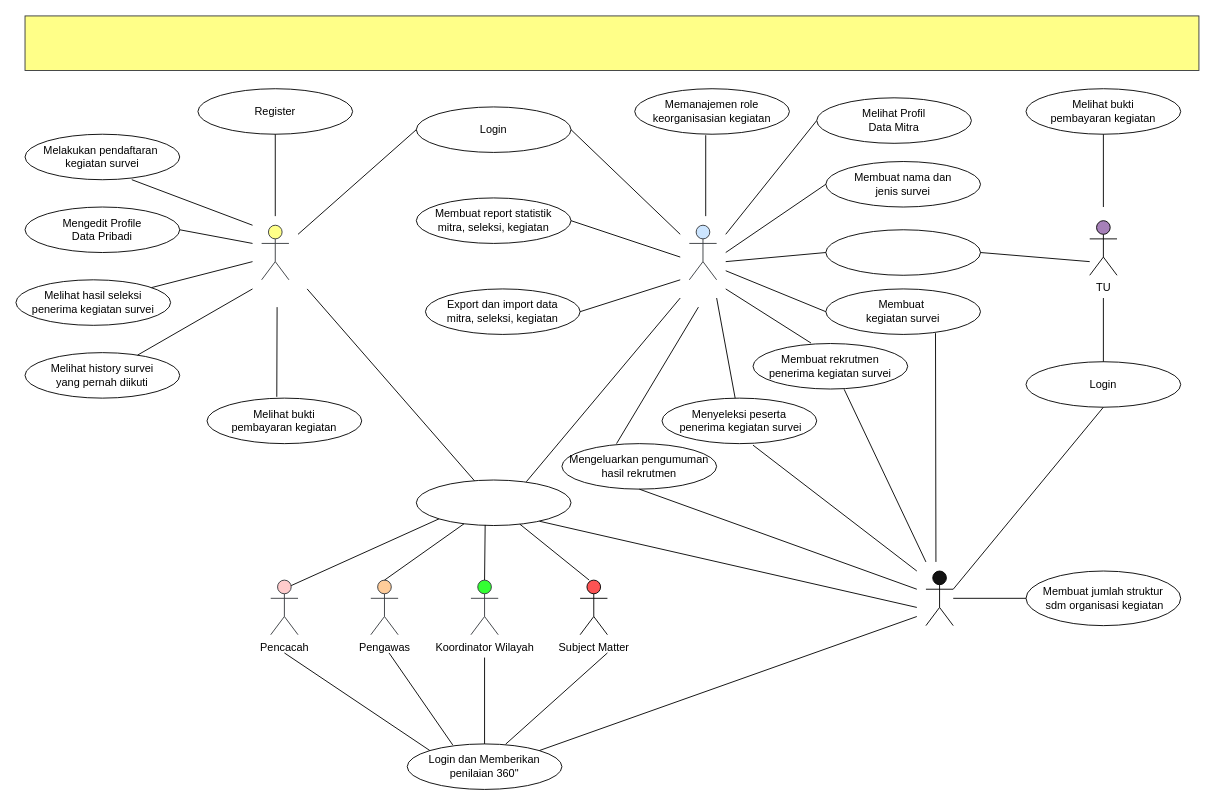
The diagram is 1215 pixels wide and 805 high, and some of its shapes have lost their labels. Each missing label, with the centre of its shape:
"Admin" belongs at pixel 702 252.
"Ketua Tim" belongs at pixel 939 598.
"Melihat hasil penilaian" belongs at pixel 493 502.
"Mengeluarkan bukti pembayaran kegiatan" belongs at pixel 903 252.
"Mitra" belongs at pixel 275 252.
"Use Case Sistem Informasi Manajemen Mitra BPS Kota Malang" belongs at pixel 611 43.
